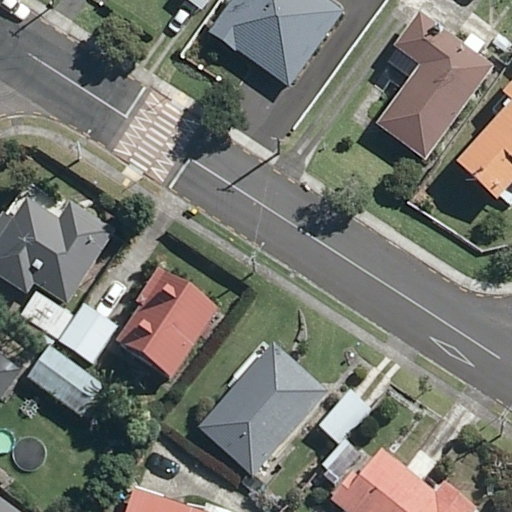DT: (269, 137, 288, 158), (73, 142, 84, 163), (250, 253, 258, 275)
